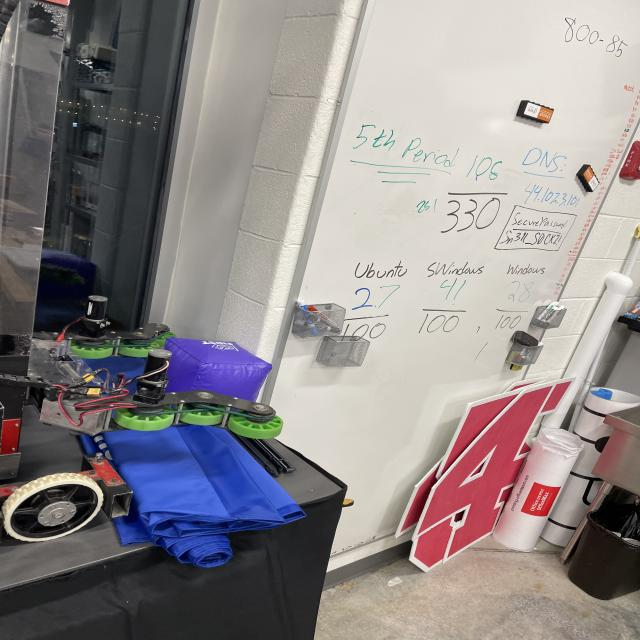frc_cube: (161, 334, 270, 403)
